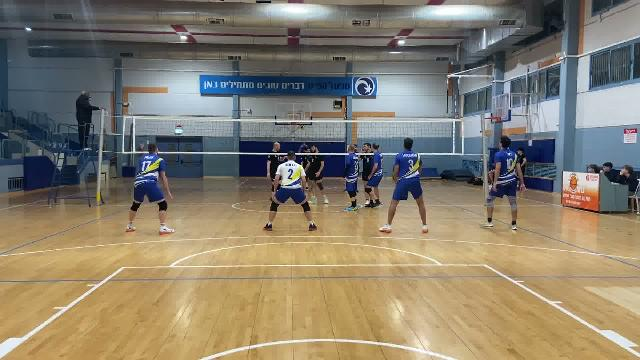ball: (299, 124, 308, 134)
